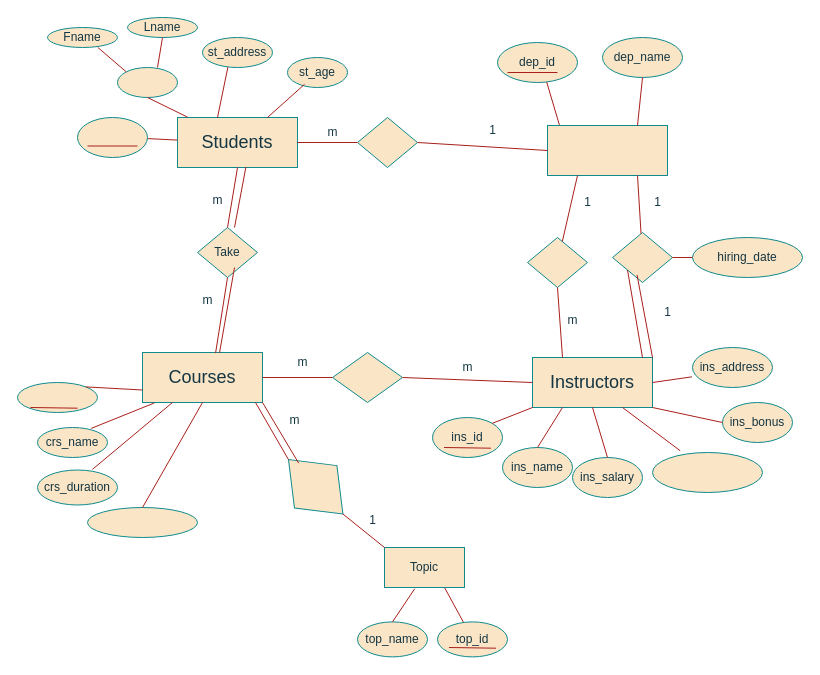
This 820x675 diagram has some shape labels left out. Here are the shapes that lost their labels. From the top down, the centre of each, then its label:
At [147,82]: "st_Name".
At [112,137]: "st_id".
At [387,142]: "Has".
At [607,150]: "Departments".
At [557,262]: "Contain".
At [642,257]: "Manage".
At [57,397]: "crs_id".
At [367,377]: "Teach".
At [315,486]: "Classify".
At [707,472]: "ins_houreRate".
At [142,522]: "crs_description".
